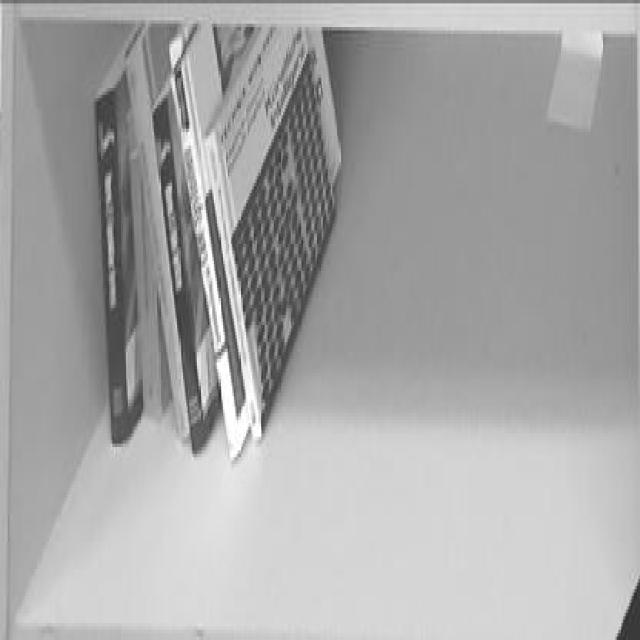book: (204, 27, 343, 439), (84, 83, 144, 438)
